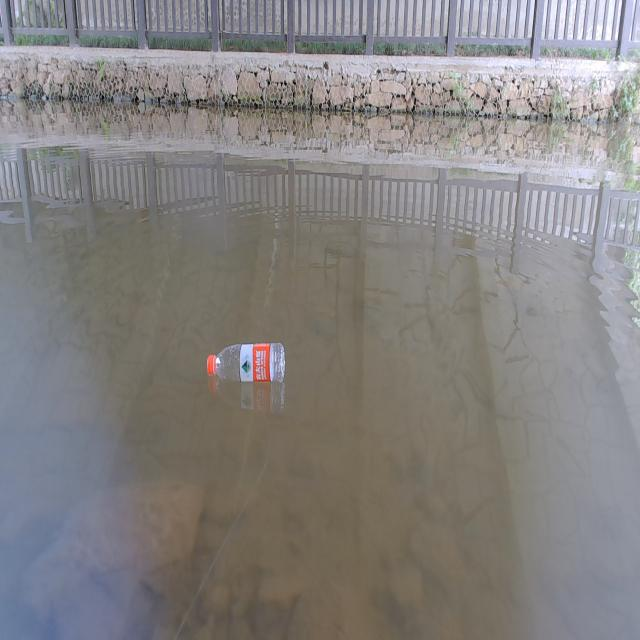Bottle: (206, 340, 285, 384)
